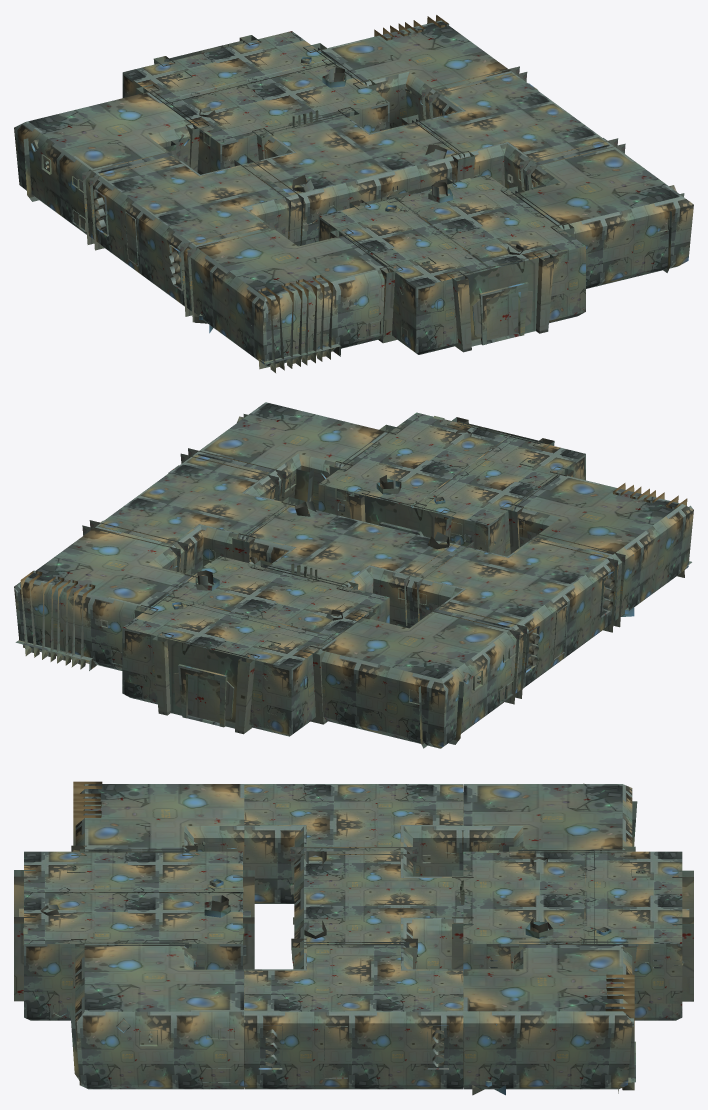
File: Combined_Mesh_root_scene__21_87b8b529__zombies2_diffuse_02_6de118bf_c1f257.obj
The picture shows the model from 3 angles, top to bottom: view 1: azimuth 30°, elevation 25°; view 2: azimuth 150°, elevation 25°; view 3: azimuth 270°, elevation 25°; orthographic projection. The views are drawn at different scales.
Size of the model in its own units: 52.07 by 9.64 by 62.1.
148 materials, 148 textured.
